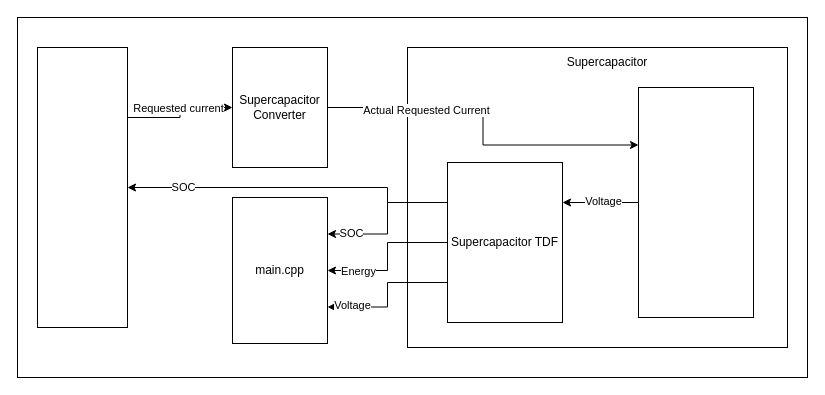
This 825x395 diagram has some shape labels left out. Each missing label, with the box of its shape:
Bus: (36, 46, 128, 328)
Supercapacitor ELN: (638, 86, 754, 318)
